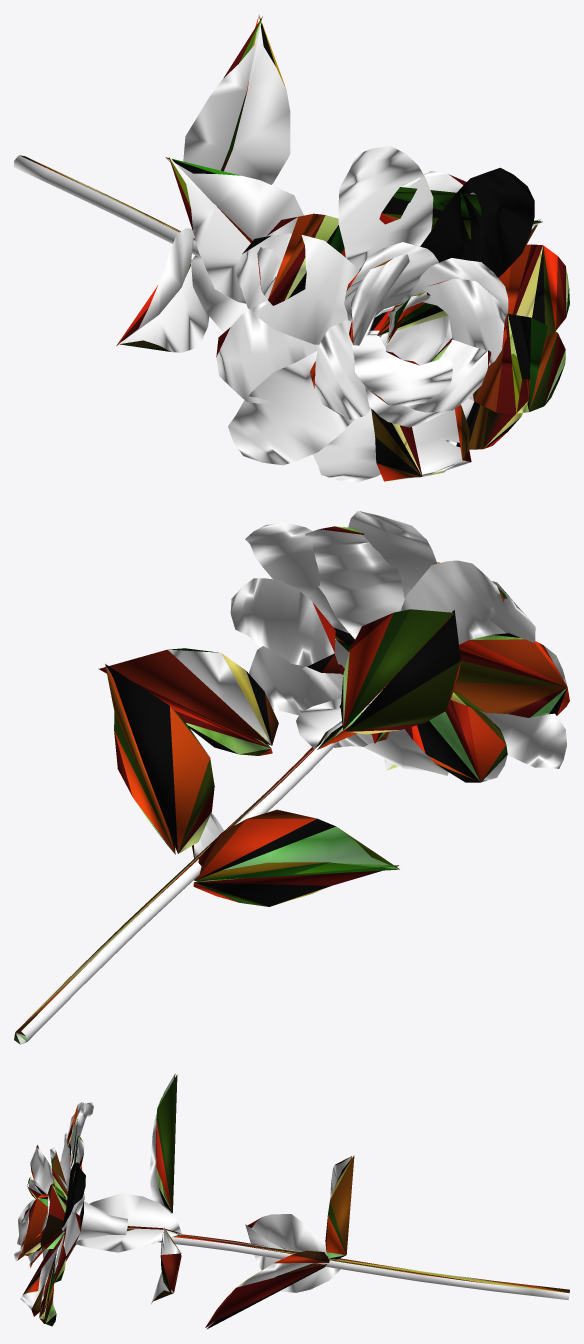
The picture shows the model from 3 angles, top to bottom: view 1: azimuth 30°, elevation 25°; view 2: azimuth 150°, elevation 25°; view 3: azimuth 270°, elevation 25°; orthographic projection. The views are drawn at different scales.
Bounding box in the file's own units: 0.5282 × 0.375 × 0.95.
